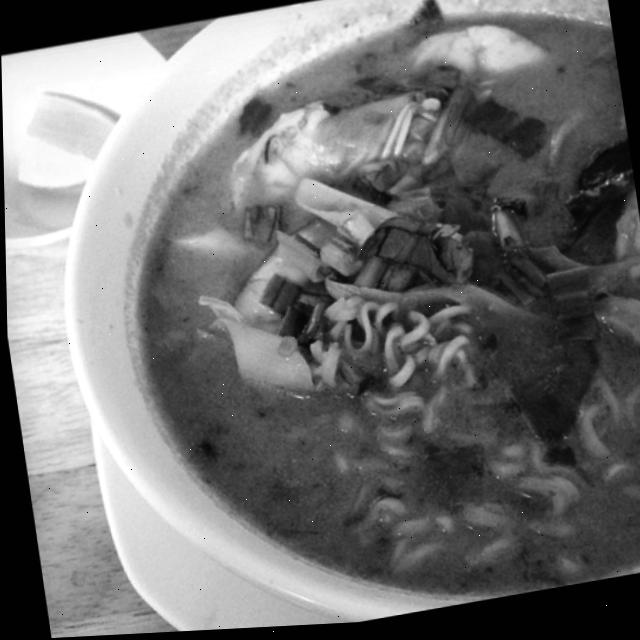汤锅炖物: (87, 0, 640, 636)
